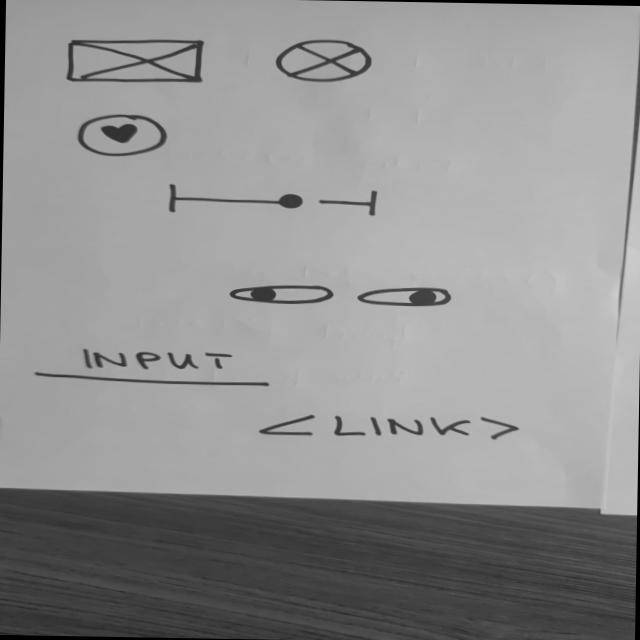icon-button: (73, 113, 175, 159)
image: (64, 38, 211, 89), (271, 38, 377, 86)
input: (26, 345, 277, 390)
link: (257, 410, 529, 443)
slider: (163, 181, 383, 222)
toggle: (224, 282, 337, 308), (354, 284, 456, 310)
